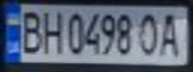0: (63, 9, 84, 55)
4: (81, 9, 100, 55)
8: (115, 10, 139, 56)
9: (97, 9, 118, 56)
A: (154, 9, 187, 57)
B: (15, 7, 45, 55)
H: (39, 7, 66, 55)
O: (136, 10, 163, 57)
